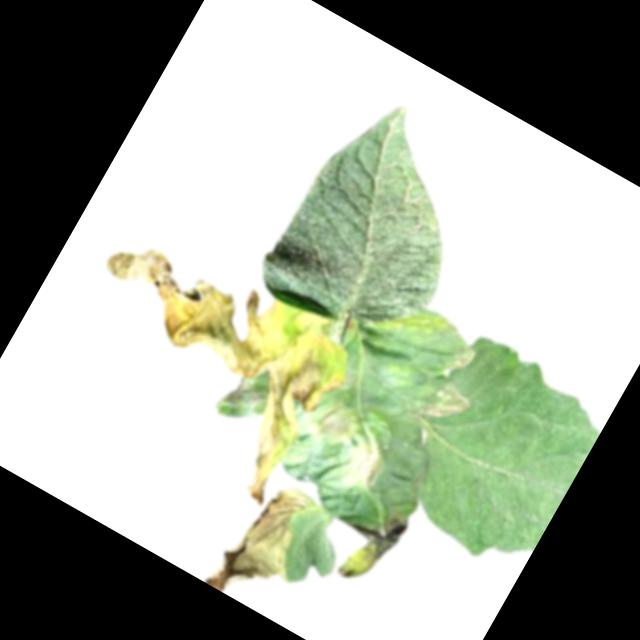Late_blight: (38, 215, 367, 513), (204, 469, 332, 617), (325, 497, 411, 595), (333, 436, 392, 499), (307, 395, 366, 452), (420, 377, 475, 434), (446, 341, 477, 378)
healthy: (249, 81, 511, 366), (380, 328, 615, 582)
